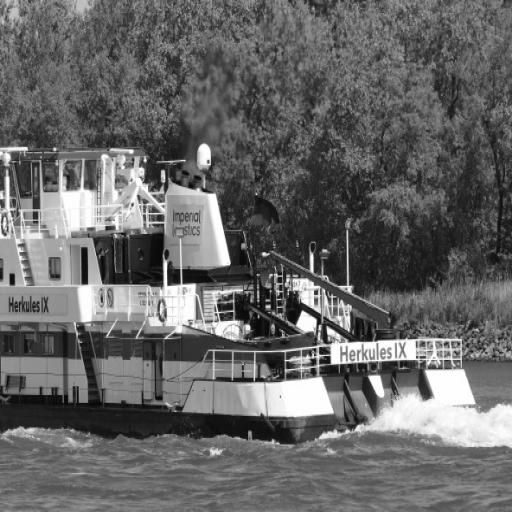tugboat: (1, 130, 487, 457)
